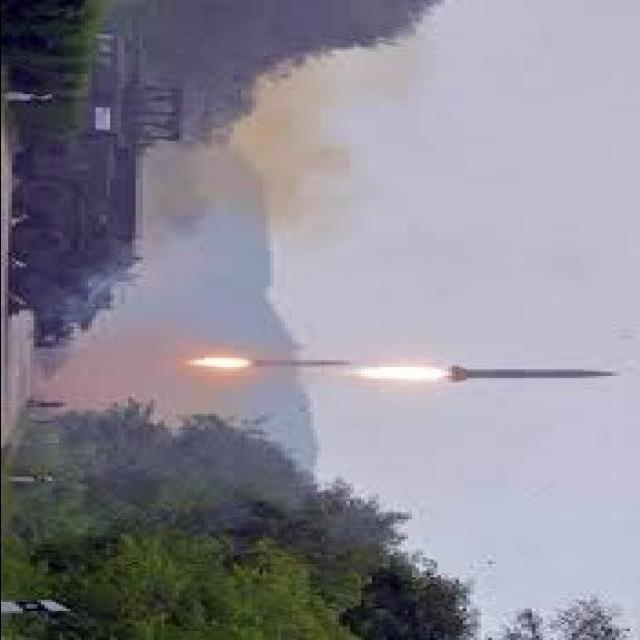missile: (438, 360, 622, 391), (233, 357, 353, 382)
